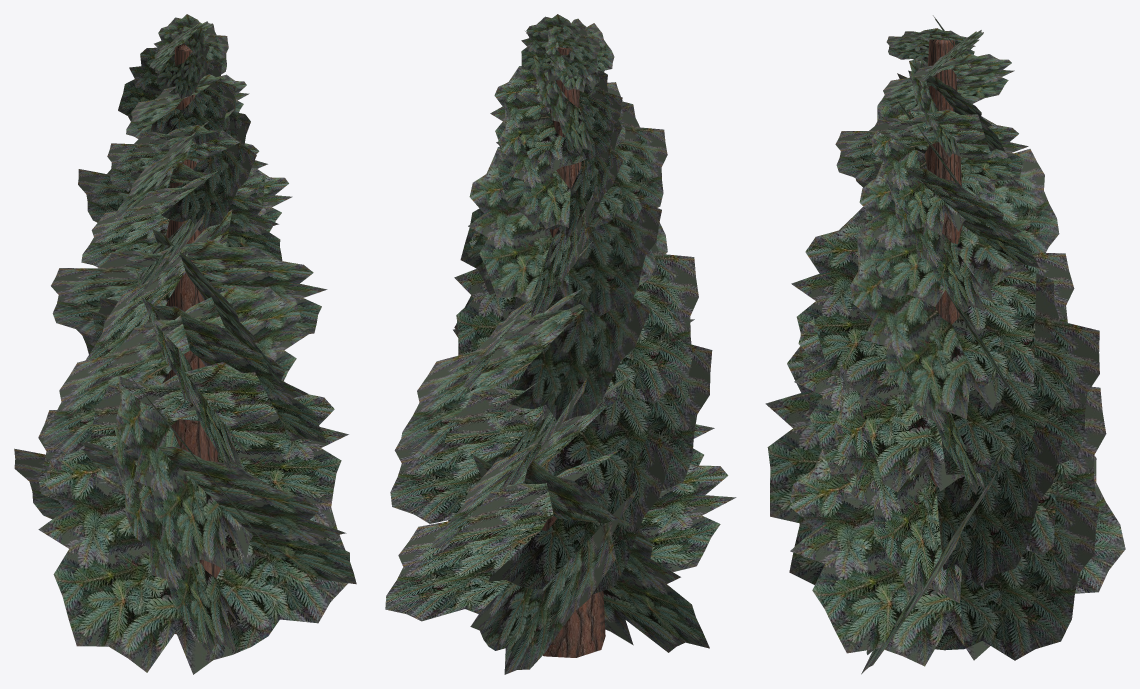
Rendered from ctree_spruce_a.glb.
3 views of the same model, side by side, from view 1: azimuth 30°, elevation 25°; view 2: azimuth 150°, elevation 25°; view 3: azimuth 270°, elevation 25° (orthographic). The views are drawn at different scales.
Visible parts, largest first — view 1: leaf, woodBark; view 2: leaf, woodBark; view 3: leaf, woodBark.
Boxes of the visible parts, x1,y1,x2,y2 form: leaf: (14, 14, 356, 674); woodBark: (162, 43, 221, 634); leaf: (385, 14, 736, 674); woodBark: (542, 47, 605, 657); leaf: (765, 15, 1125, 674); woodBark: (924, 39, 962, 486).
Size of the model in its own units: 0.5116 by 1.1 by 0.5647.
Materials: 2 (2 with a texture image).
